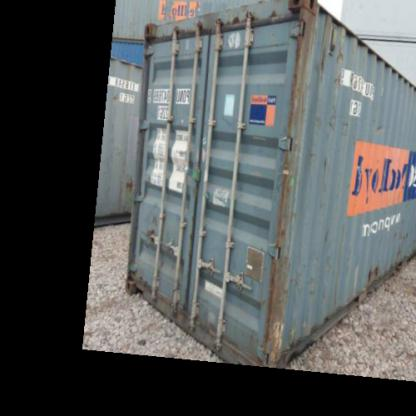Damage: (281, 257, 343, 342), (315, 12, 349, 89), (312, 105, 353, 132), (388, 218, 411, 259), (365, 262, 382, 286), (317, 151, 330, 178), (320, 224, 333, 247), (266, 9, 285, 20), (370, 119, 386, 132), (224, 12, 240, 25)
